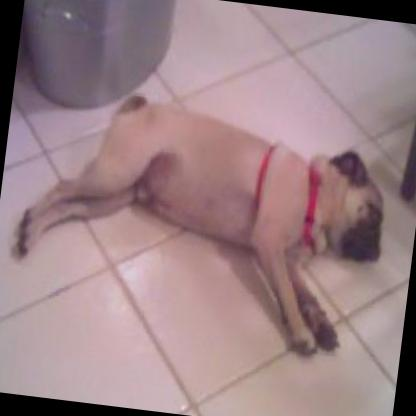pug: (0, 80, 395, 357)
